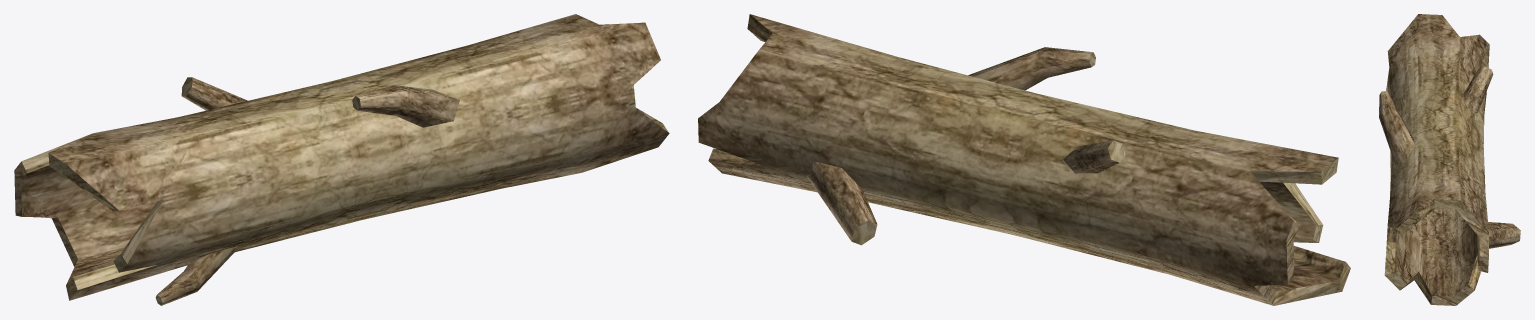
3 renders of one model, left to right at view 1: azimuth 30°, elevation 25°; view 2: azimuth 150°, elevation 25°; view 3: azimuth 270°, elevation 25°, orthographic. The views are drawn at different scales.
Visible parts, largest first — view 1: model_Object25; view 2: model_Object25; view 3: model_Object25.
Boxes of the visible parts, x1=… form: model_Object25: x1=14, y1=14, x2=669, y2=305; model_Object25: x1=698, y1=14, x2=1350, y2=305; model_Object25: x1=1379, y1=14, x2=1520, y2=305.
Size of the model in its own units: 2.27 by 0.6572 by 0.6903.
1 material, 1 textured.
